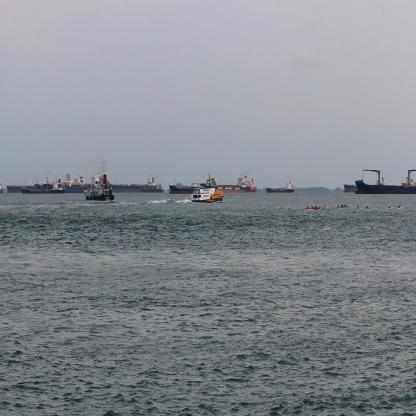Container Ship: (70, 172, 164, 194), (353, 168, 415, 196), (5, 171, 75, 193), (83, 158, 114, 202), (167, 173, 216, 196), (216, 170, 257, 194), (19, 176, 65, 195), (343, 176, 385, 192), (264, 175, 294, 195)
